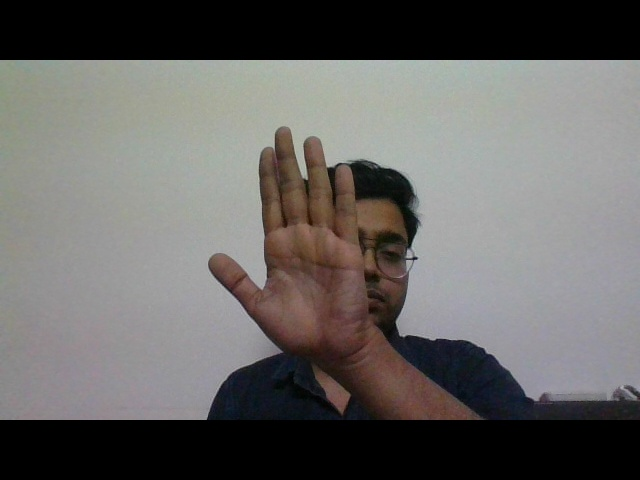Hello: (199, 113, 392, 362)
